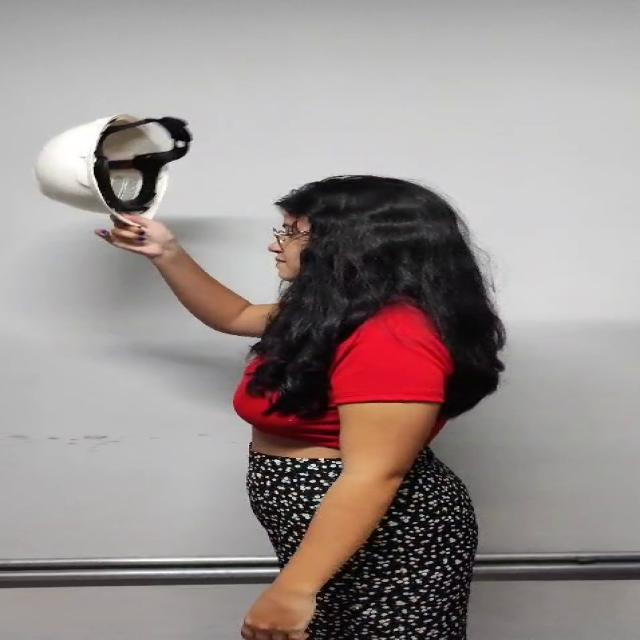sem_capacete: (237, 151, 488, 318)
